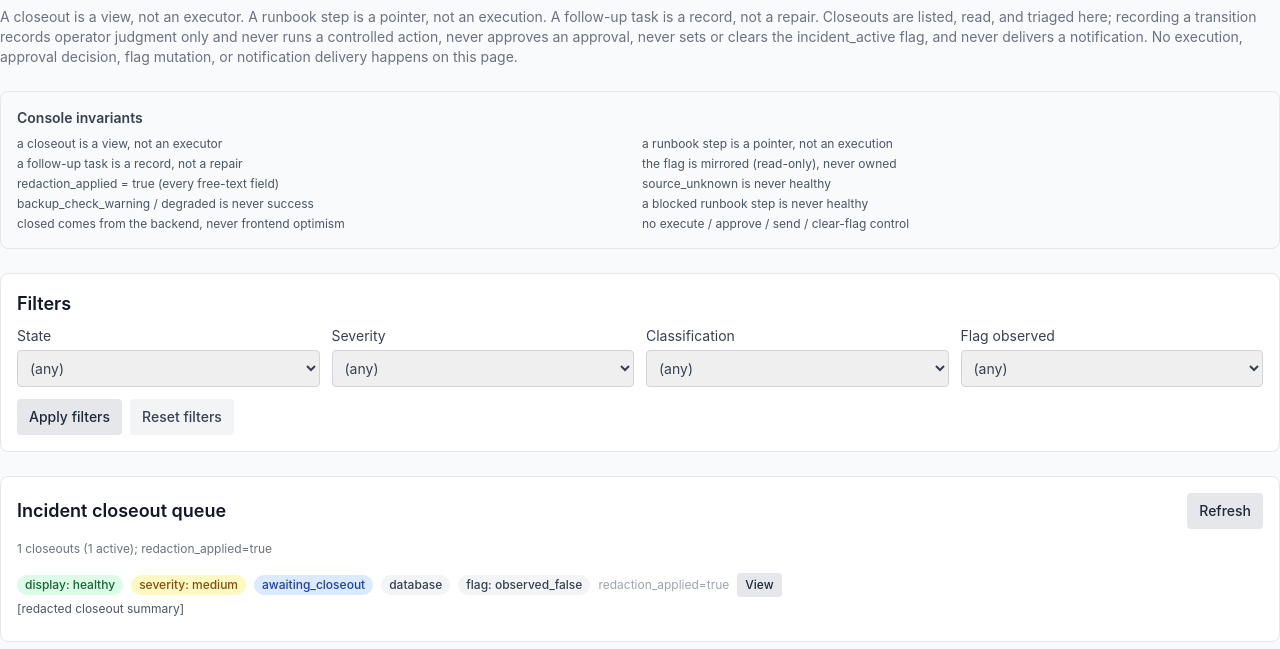
Test: PlatformIncidentCloseoutsPage › view loads the detail with the redacted grid, audit history, and runbook steps
Expected: the list item with test id "ic-queue-item" is shown, [17, 573, 782, 616]
Click the button with test id "ic-view-btn" at x=759, y=585, box [737, 573, 782, 597]
(page scrolled)
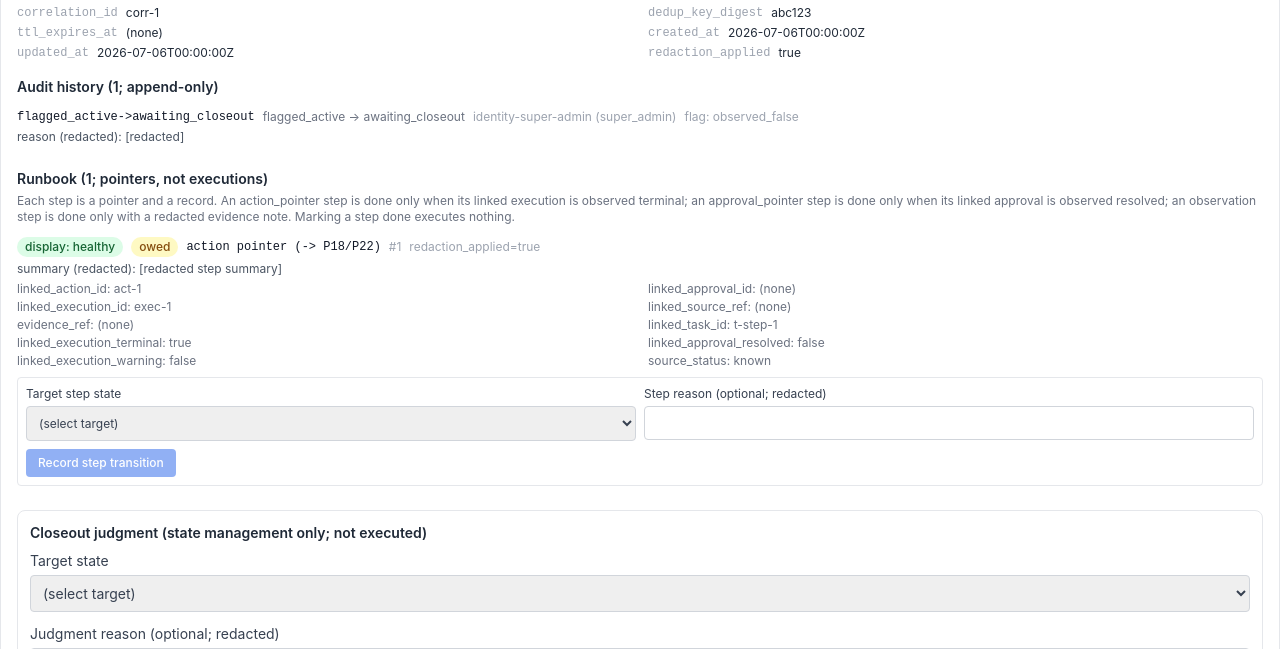
Now the element with test id "ic-audit-list" shows "flagged_active->awaiting_closeout", box [17, 110, 255, 124]
Now the element with test id "ic-runbook" shows "action pointer", box [186, 240, 381, 254]
